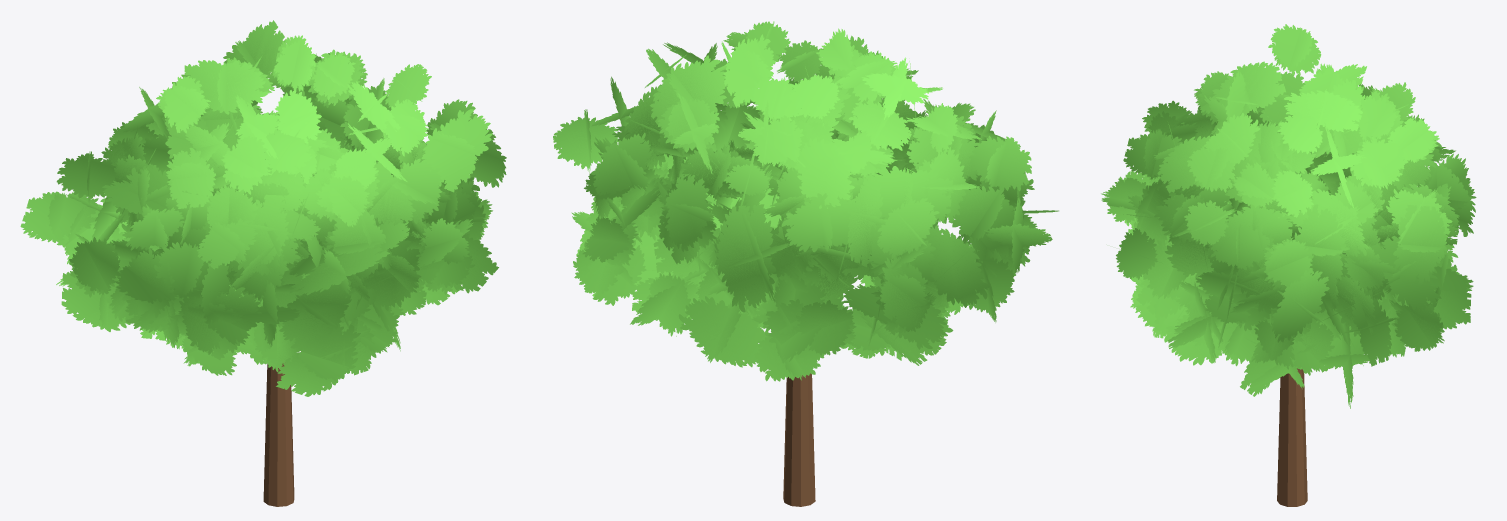
File: tree_foliage_480card_v6.glb
The picture shows the model from 3 angles, left to right: view 1: azimuth 30°, elevation 25°; view 2: azimuth 150°, elevation 25°; view 3: azimuth 270°, elevation 25°; orthographic projection. The views are drawn at different scales.
Visible parts, largest first — view 1: Tree_Foliage_480Cards_Random3D, Tree_Trunk_Straight; view 2: Tree_Foliage_480Cards_Random3D, Tree_Trunk_Straight; view 3: Tree_Foliage_480Cards_Random3D, Tree_Trunk_Straight.
Part boxes in pixels (bbox=[...]): Tree_Foliage_480Cards_Random3D: bbox=[20, 20, 506, 396]; Tree_Trunk_Straight: bbox=[263, 363, 294, 506]; Tree_Foliage_480Cards_Random3D: bbox=[553, 21, 1058, 381]; Tree_Trunk_Straight: bbox=[783, 373, 815, 506]; Tree_Foliage_480Cards_Random3D: bbox=[1101, 24, 1476, 408]; Tree_Trunk_Straight: bbox=[1277, 368, 1307, 506].
Size of the model in its own units: 6.38 by 6.01 by 4.93.
2 materials, 1 textured.
